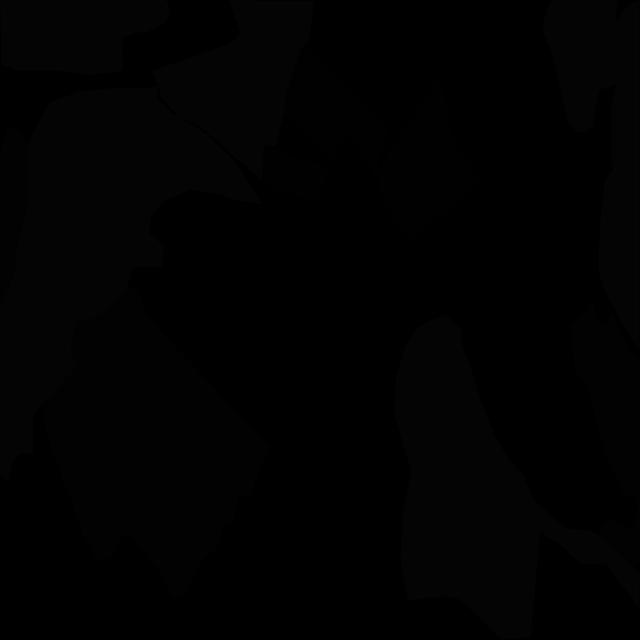cardboard: (44, 287, 270, 598), (570, 299, 640, 565), (0, 127, 28, 304)
rigid_plastic: (377, 75, 481, 244), (284, 42, 389, 181), (264, 146, 331, 201)
soft_plastic: (0, 85, 263, 481), (394, 316, 640, 639), (152, 0, 314, 180), (598, 1, 640, 348), (0, 0, 170, 76), (542, 0, 632, 133)
